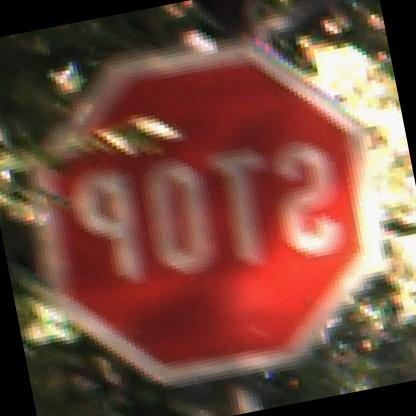stop: (5, 26, 414, 408)
